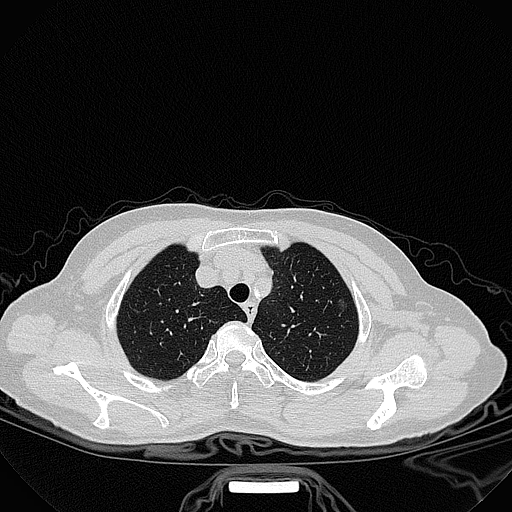nodule: (336, 298, 347, 313)
